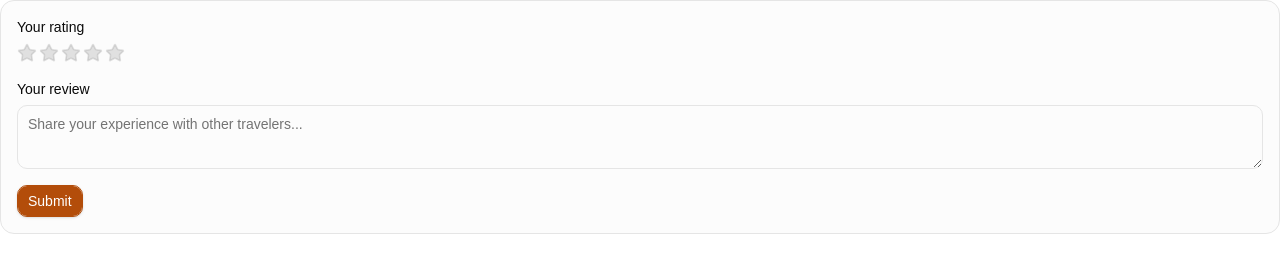
Scenario: ReviewForm › blocks submit and shows an inline error when review text is blank
Click the radio button named "4 stars" at x=93, y=53, box x1=83 y1=43 x2=103 y2=63
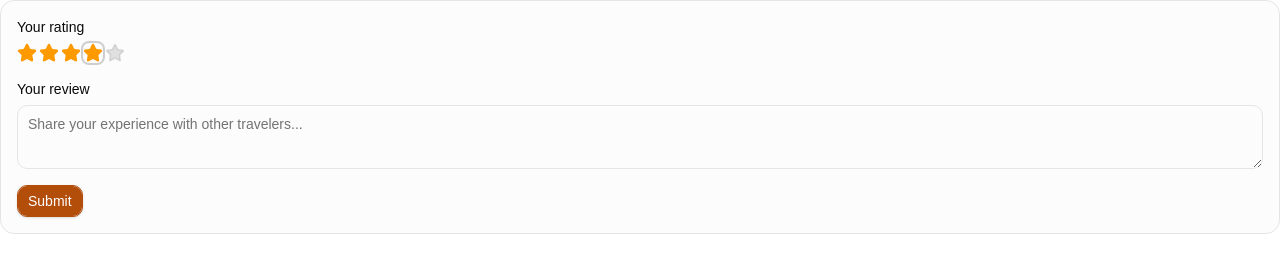
Click the button "Submit" at x=50, y=201, box x1=17 y1=185 x2=83 y2=217
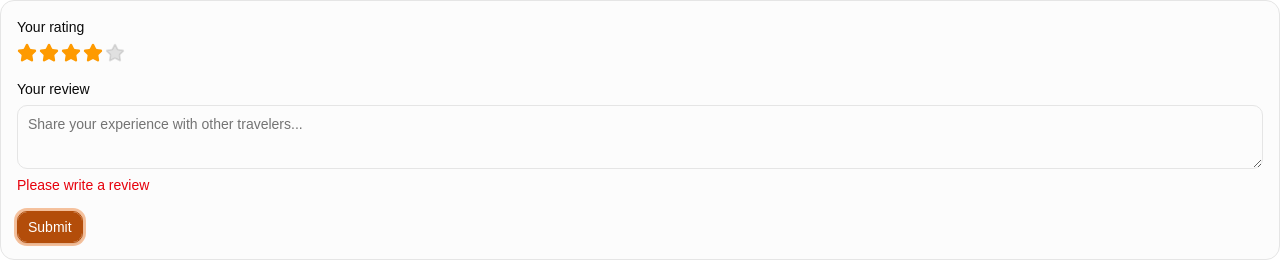
Result: the text "Please write a review" is shown at x1=17 y1=177 x2=149 y2=193
